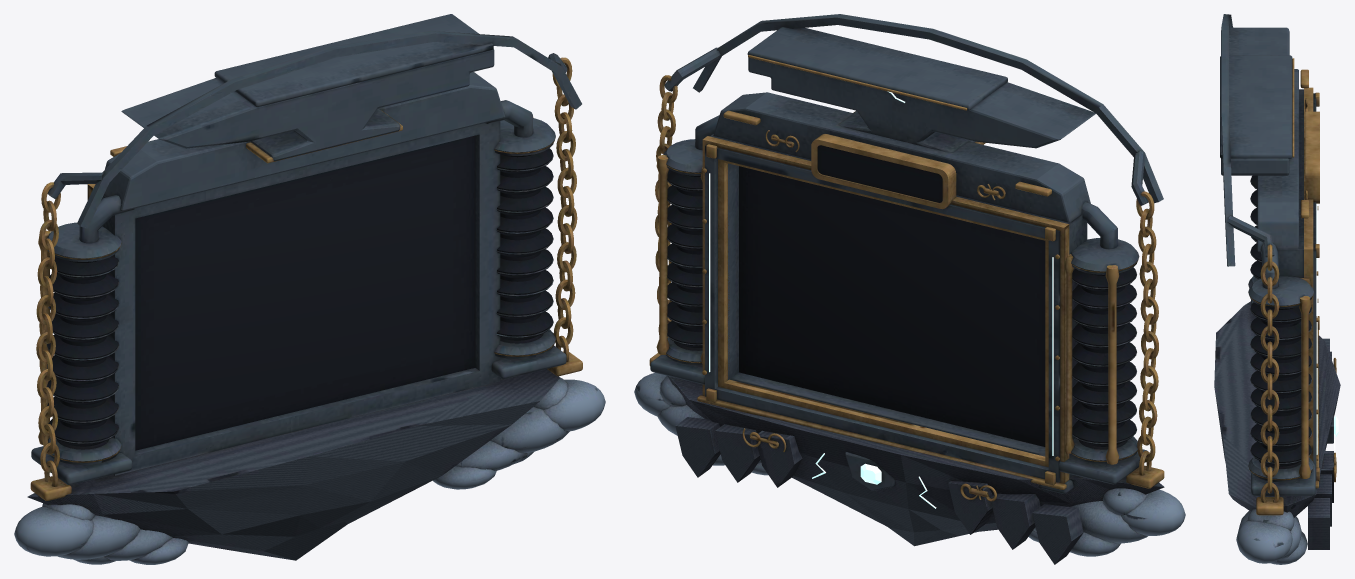
The picture shows the model from 3 angles, left to right: view 1: azimuth 30°, elevation 25°; view 2: azimuth 150°, elevation 25°; view 3: azimuth 270°, elevation 25°; orthographic projection. The views are drawn at different scales.
Parts seen in each view (by area): view 1: Charcoal_inset_and_bellows, Forged_steel, Fractured_basalt, Storm_vapor, Aged_bronze_trim; view 2: Charcoal_inset_and_bellows, Forged_steel, Aged_bronze_trim, Fractured_basalt, Storm_vapor, Electric_fissure_glow; view 3: Forged_steel, Fractured_basalt, Aged_bronze_trim, Charcoal_inset_and_bellows, Storm_vapor, Electric_fissure_glow.
Boxes of the visible parts, <box> form: Charcoal_inset_and_bellows: <box>47,135,552,450</box>; Forged_steel: <box>31,14,581,484</box>; Fractured_basalt: <box>27,369,559,560</box>; Storm_vapor: <box>14,377,605,564</box>; Aged_bronze_trim: <box>30,57,582,500</box>; Charcoal_inset_and_bellows: <box>667,145,1136,449</box>; Forged_steel: <box>650,14,1163,493</box>; Aged_bronze_trim: <box>649,55,1164,501</box>; Fractured_basalt: <box>667,376,1164,564</box>; Storm_vapor: <box>634,373,1185,556</box>; Electric_fissure_glow: <box>709,91,1053,508</box>; Forged_steel: <box>1220,14,1333,495</box>; Fractured_basalt: <box>1214,301,1340,549</box>; Aged_bronze_trim: <box>1248,58,1336,515</box>; Charcoal_inset_and_bellows: <box>1251,175,1311,468</box>; Storm_vapor: <box>1236,509,1307,564</box>; Electric_fissure_glow: <box>1316,203,1338,454</box>.
Size of the model in its own units: 13.84 by 12.01 by 3.03.
6 materials, 5 textured.
